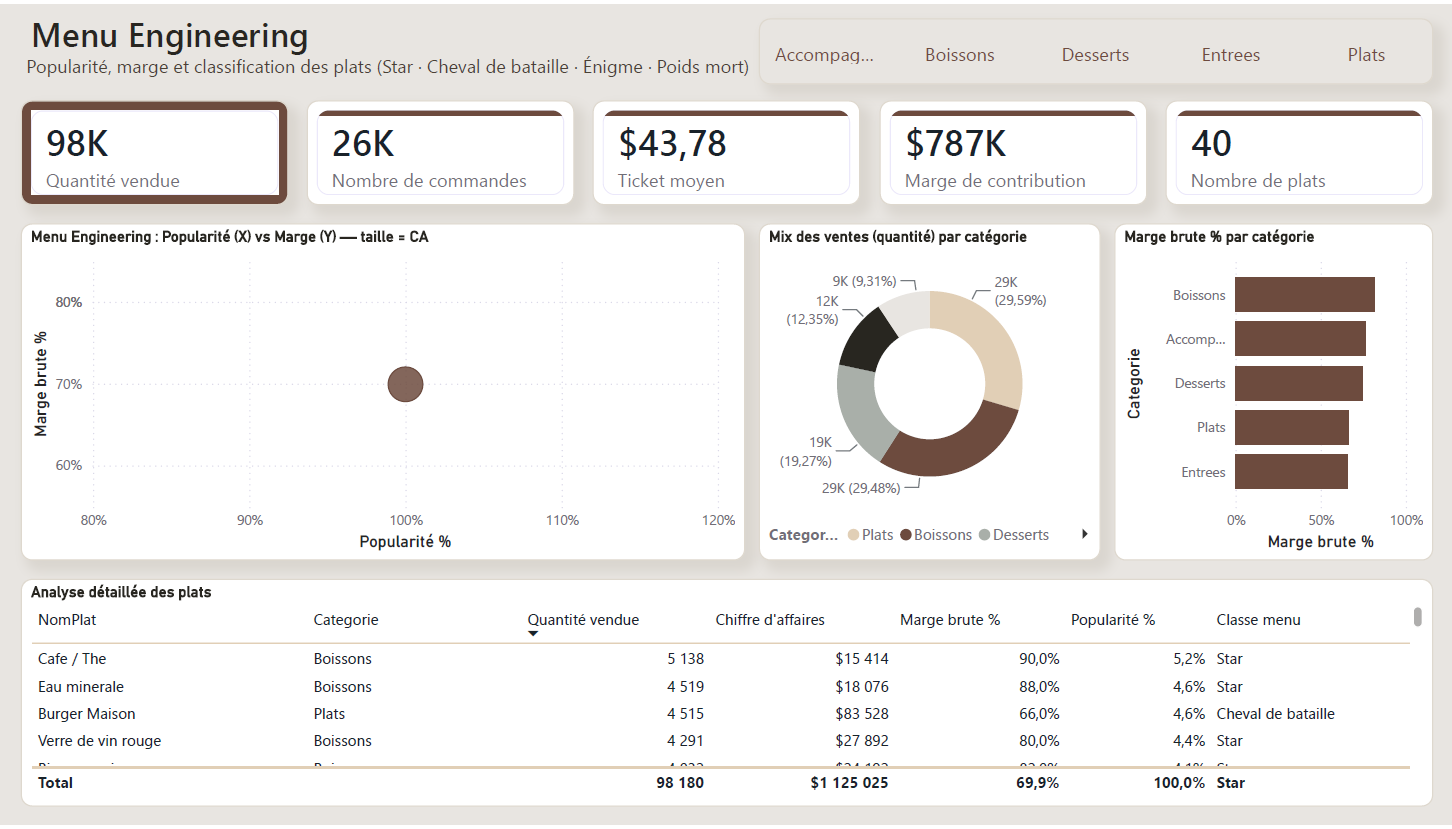

What the dashboard file says about the page in this screenshot:
{"tool":"powerbi","page":{"name":"Menu Engineering","canvas":[1280,720],"ordinal":2},"visuals":[{"type":"textbox","box":[24.5,0,1000.2,49.8],"z":0},{"type":"textbox","box":[20.1,37.6,1099.9,32.3],"z":1000},{"type":"advancedSlicerVisual","title":"Catégorie","fields":{"Values":["Menu.Categorie"]},"box":[668,12.2,591.9,57.7],"z":2000},{"type":"cardVisual","fields":{"Data":["Ventes.Quantité vendue"]},"box":[20,84,235.2,92],"z":3000},{"type":"cardVisual","fields":{"Data":["Ventes.Nombre de commandes"]},"box":[271.2,84,235.2,92],"z":4000},{"type":"cardVisual","fields":{"Data":["Ventes.Ticket moyen"]},"box":[522.4,84,235.2,92],"z":5000},{"type":"cardVisual","fields":{"Data":["Ventes.Marge de contribution"]},"box":[773.6,84,235.2,92],"z":6000},{"type":"cardVisual","fields":{"Data":["Ventes.Nombre de plats"]},"box":[1024.8,84,235.2,92],"z":7000},{"type":"scatterChart","title":"Menu Engineering : Popularité (X) vs Marge (Y) — taille = CA","fields":{"Details":["Menu.NomPlat"],"X":["Ventes.Popularité %"],"Y":["Ventes.Marge brute %"],"Size":["Ventes.Chiffre d'affaires"]},"box":[20,192,636,296],"z":8000},{"type":"donutChart","title":"Mix des ventes (quantité) par catégorie","fields":{"Category":["Menu.Categorie"],"Y":["Ventes.Quantité vendue"]},"box":[668,192,300,296],"z":9000},{"type":"clusteredBarChart","title":"Marge brute % par catégorie","fields":{"Category":["Menu.Categorie"],"Y":["Ventes.Marge brute %"]},"box":[980,192,280,296],"z":10000},{"type":"tableEx","title":"Analyse détaillée des plats","fields":{"Values":["Menu.NomPlat","Menu.Categorie","Ventes.Quantité vendue","Ventes.Chiffre d'affaires","Ventes.Marge brute %","Ventes.Popularité %","Ventes.Classe menu"]},"box":[20,504,1240,200],"z":11000}]}

Visuals, with their boxes in screenshot pixels (x1, y1, x2, y2), scaled from the page's 1280x720 canvas onto the 1452x829 screenshot:
textbox: locate(28, 0, 1162, 57)
textbox: locate(23, 43, 1270, 80)
"Catégorie" advancedSlicerVisual: locate(758, 14, 1429, 80)
cardVisual - Ventes.Quantité vendue: locate(23, 97, 289, 203)
cardVisual - Ventes.Nombre de commandes: locate(308, 97, 574, 203)
cardVisual - Ventes.Ticket moyen: locate(593, 97, 859, 203)
cardVisual - Ventes.Marge de contribution: locate(878, 97, 1144, 203)
cardVisual - Ventes.Nombre de plats: locate(1163, 97, 1429, 203)
"Menu Engineering : Popularité (X) vs Marge (Y) — taille = CA" scatterChart: locate(23, 221, 744, 562)
"Mix des ventes (quantité) par catégorie" donutChart: locate(758, 221, 1098, 562)
"Marge brute % par catégorie" clusteredBarChart: locate(1112, 221, 1429, 562)
"Analyse détaillée des plats" tableEx: locate(23, 580, 1429, 811)
